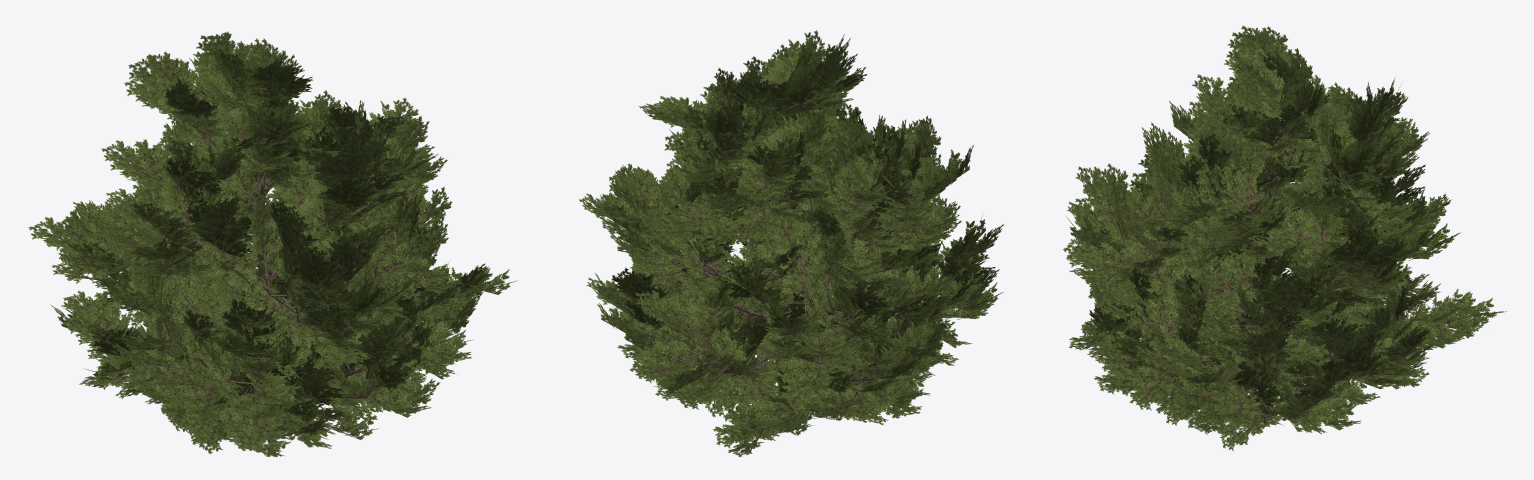
The model's file is conifer_shrub.glb.
3 renders of one model, left to right at view 1: azimuth 30°, elevation 25°; view 2: azimuth 150°, elevation 25°; view 3: azimuth 270°, elevation 25°, orthographic. The views are drawn at different scales.
Visible parts, largest first — view 1: Object_13; view 2: Object_13; view 3: Object_13.
Part boxes in pixels (box(x1,y1,x2,y2)): Object_13: box(28, 31, 516, 457); Object_13: box(578, 30, 1003, 457); Object_13: box(1063, 25, 1506, 451).
Size of the model in its own units: 10.92 by 9.97 by 11.44.
2 materials, 2 textured.
